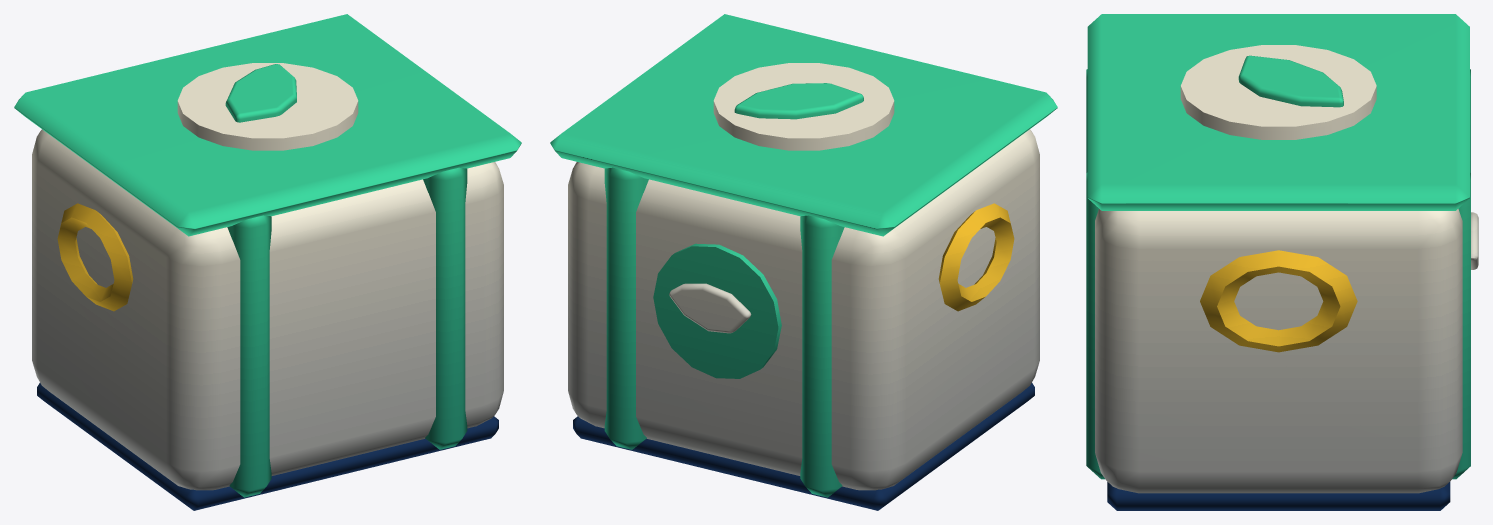
File: supply.glb
3 views of the same model, side by side, from view 1: azimuth 30°, elevation 25°; view 2: azimuth 150°, elevation 25°; view 3: azimuth 270°, elevation 25° (orthographic). The views are drawn at different scales.
Visible parts, largest first — view 1: supply Warm white, supply Relief mint, supply Kestrel navy, supply Sunflower; view 2: supply Warm white, supply Relief mint, supply Kestrel navy, supply Sunflower; view 3: supply Warm white, supply Relief mint, supply Sunflower, supply Kestrel navy.
Boxes of the visible parts, x1=… form: supply Warm white: x1=32, y1=63, x2=503, y2=490; supply Relief mint: x1=14, y1=14, x2=521, y2=497; supply Kestrel navy: x1=37, y1=383, x2=498, y2=510; supply Sunflower: x1=57, y1=203, x2=133, y2=311; supply Warm white: x1=568, y1=63, x2=1039, y2=490; supply Relief mint: x1=550, y1=14, x2=1057, y2=497; supply Kestrel navy: x1=573, y1=383, x2=1034, y2=510; supply Sunflower: x1=938, y1=203, x2=1014, y2=311; supply Warm white: x1=1095, y1=45, x2=1478, y2=493; supply Relief mint: x1=1086, y1=14, x2=1470, y2=479; supply Sunflower: x1=1200, y1=250, x2=1357, y2=352; supply Kestrel navy: x1=1107, y1=482, x2=1450, y2=510.
Bounding box in the file's own units: 0.93 × 0.798 × 0.8003.
4 materials, 4 textured.
